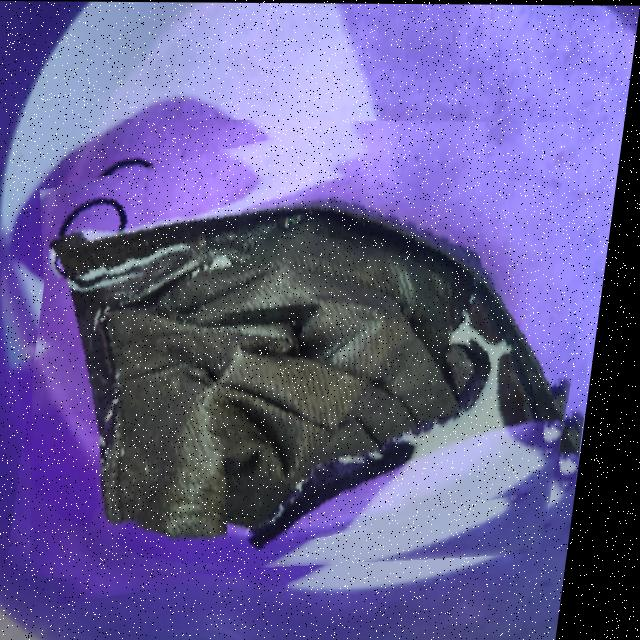litter: (21, 117, 628, 585)
